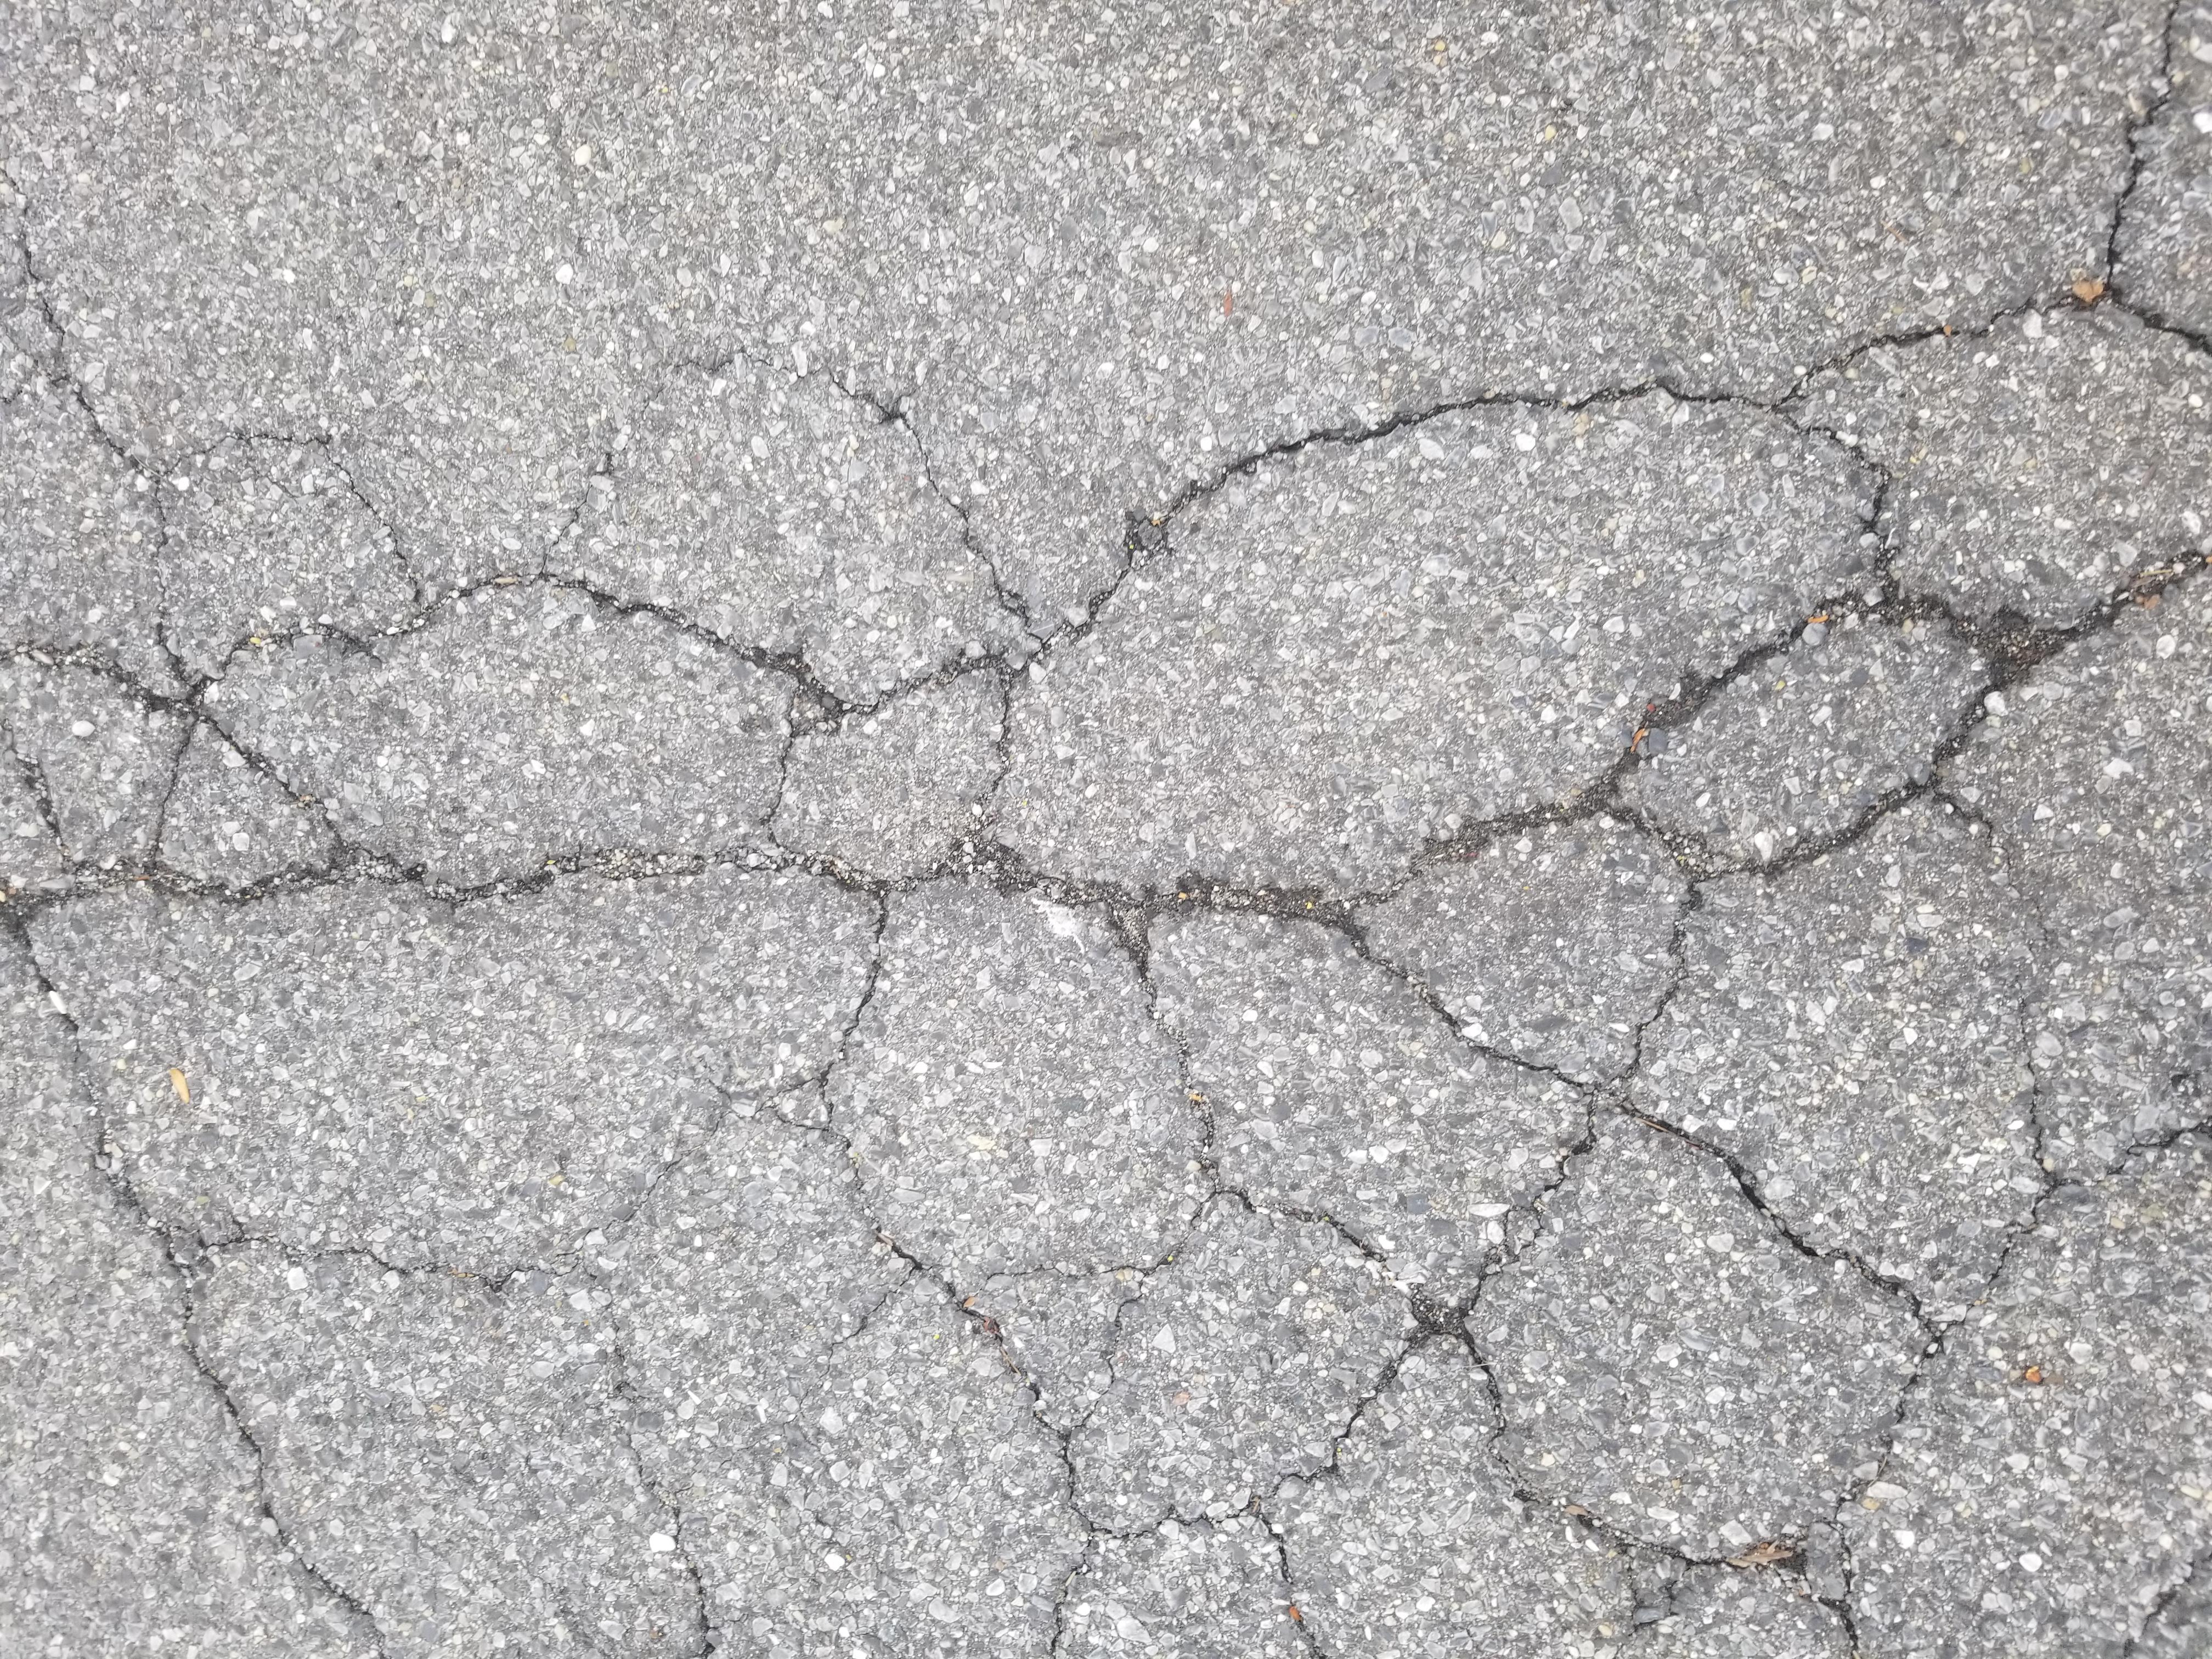alligator-crack: (33, 68, 1799, 1643)
